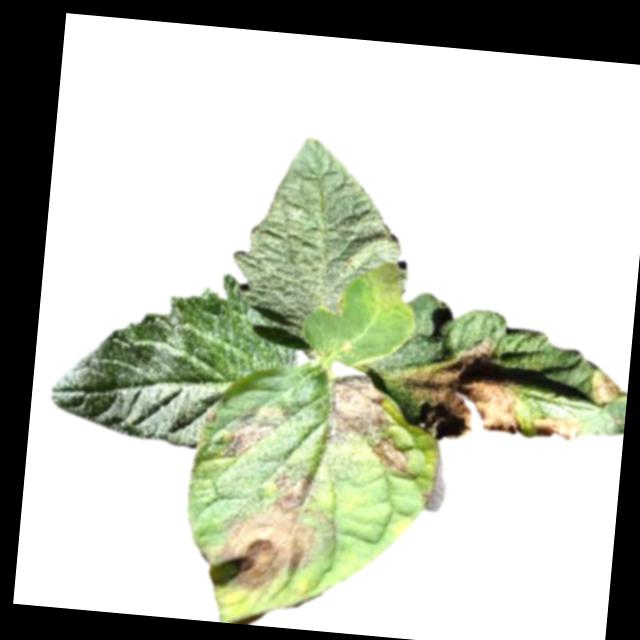Late_blight: (196, 464, 340, 598), (394, 331, 526, 447), (324, 370, 393, 452), (225, 399, 292, 460), (364, 259, 406, 315), (528, 412, 581, 447), (587, 368, 626, 411), (370, 434, 409, 474)
healthy: (43, 258, 303, 456), (224, 131, 420, 358)
